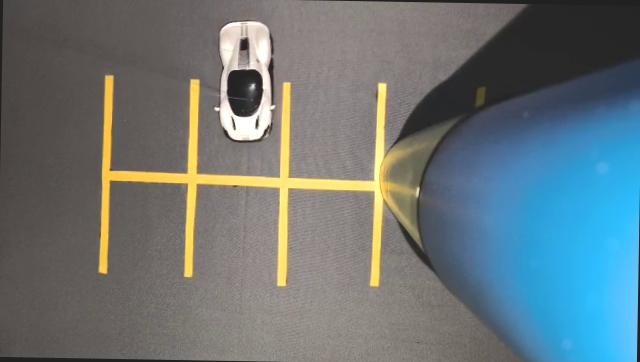toy_car: (183, 11, 317, 144)
